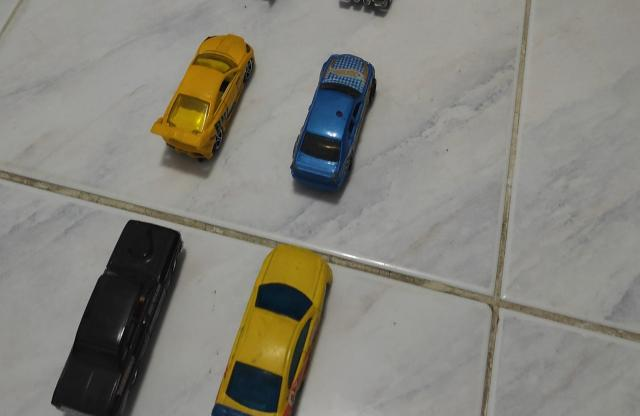01_FORD: (51, 221, 186, 416)
02_OZSOME: (210, 245, 333, 416)
04_MERZEDES: (289, 54, 378, 198)
05_DC121: (337, 0, 399, 18)
07_RHLTURBO: (148, 35, 254, 162)
